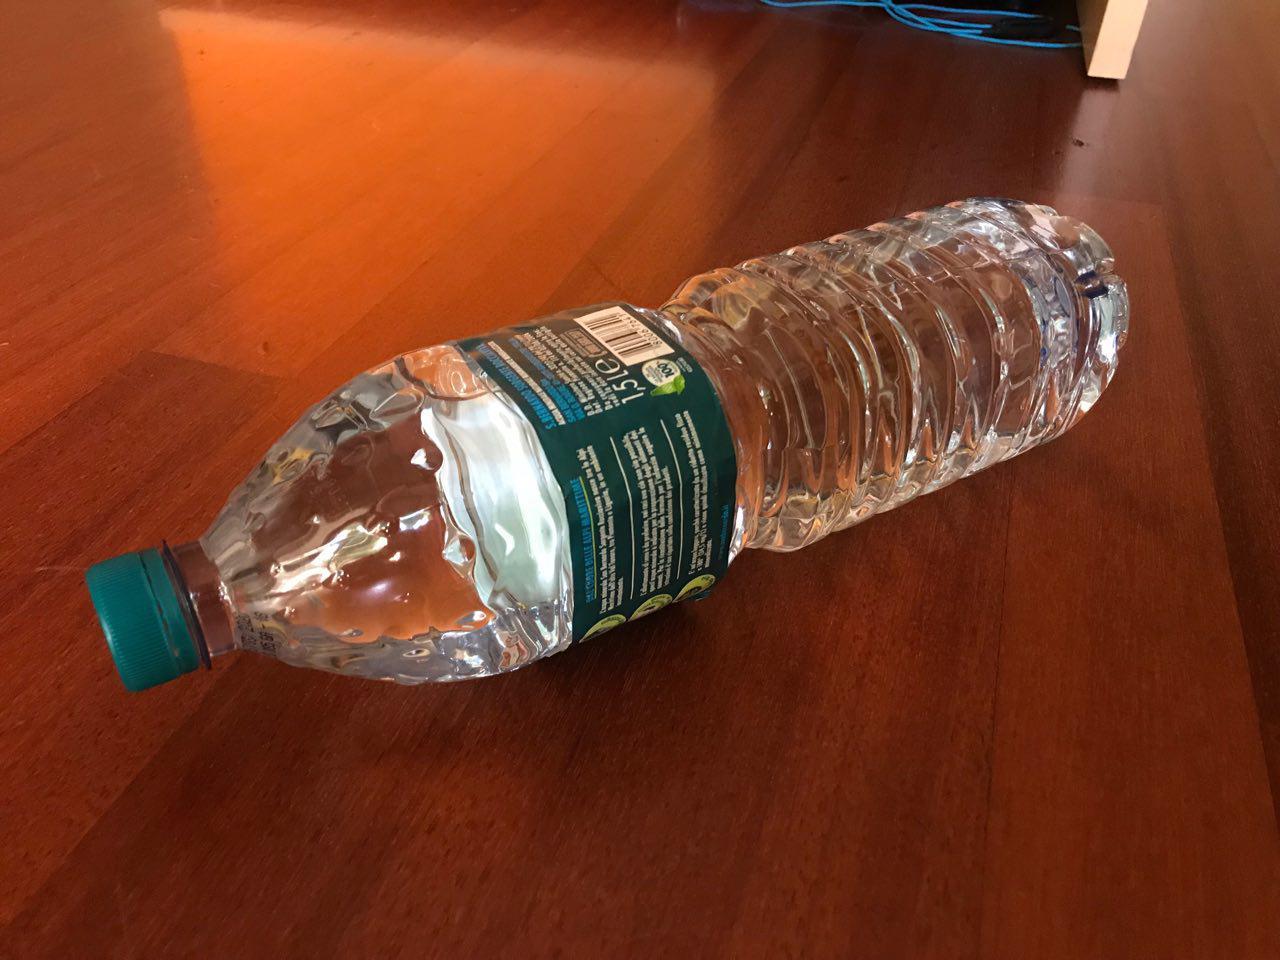san_bernardo: (82, 194, 1131, 697)
